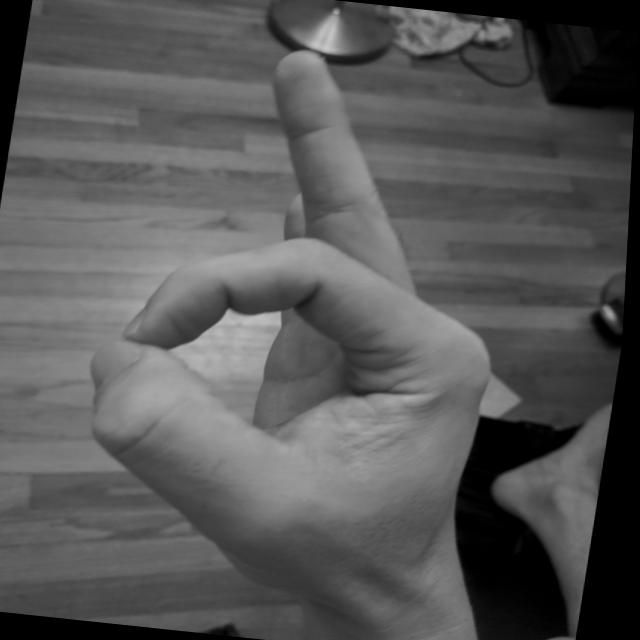F: (48, 26, 553, 630)
